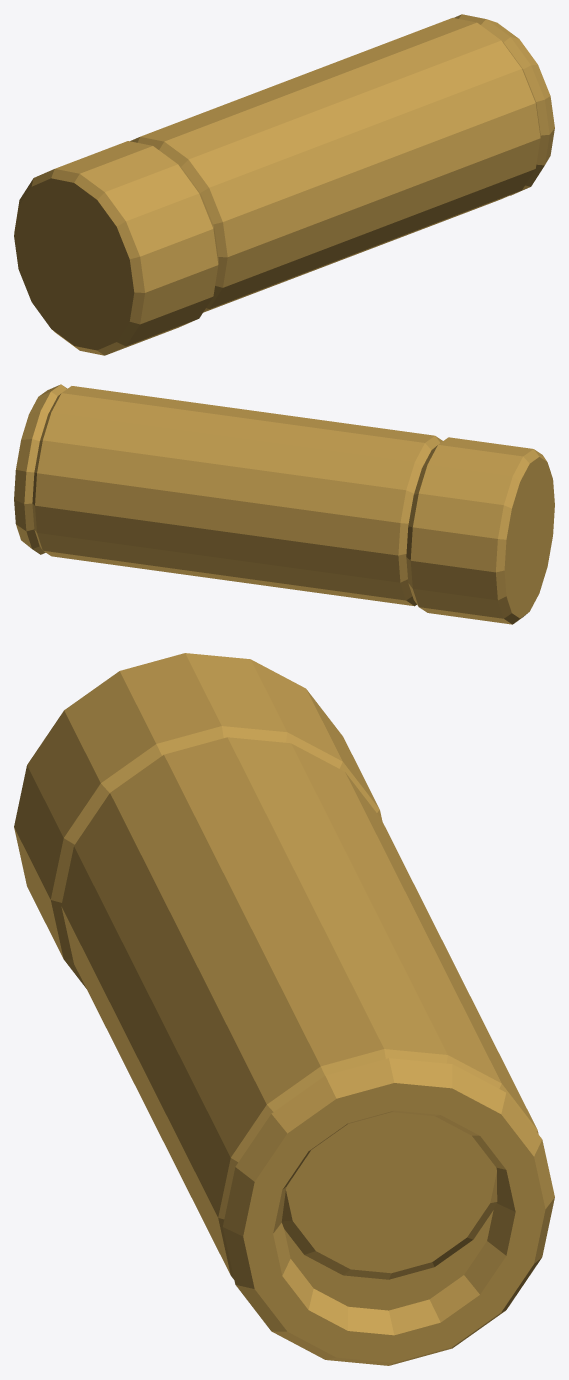
The model's file is AuxAmmoShotgunHull_Ground.fbx.
3 renders of one model, top to bottom at view 1: azimuth 30°, elevation 25°; view 2: azimuth 150°, elevation 25°; view 3: azimuth 270°, elevation 25°, orthographic. The views are drawn at different scales.
Parts seen in each view (by area): view 1: AuxAmmoShotgunHull_Ground_GameExport; view 2: AuxAmmoShotgunHull_Ground_GameExport; view 3: AuxAmmoShotgunHull_Ground_GameExport.
Boxes of the visible parts, left/top/right/bottom form: AuxAmmoShotgunHull_Ground_GameExport: left=14, top=14, right=554, bottom=355; AuxAmmoShotgunHull_Ground_GameExport: left=14, top=384, right=554, bottom=624; AuxAmmoShotgunHull_Ground_GameExport: left=14, top=653, right=554, bottom=1365.
Bounding box in the file's own units: 6.26 × 3.19 × 2.06.
